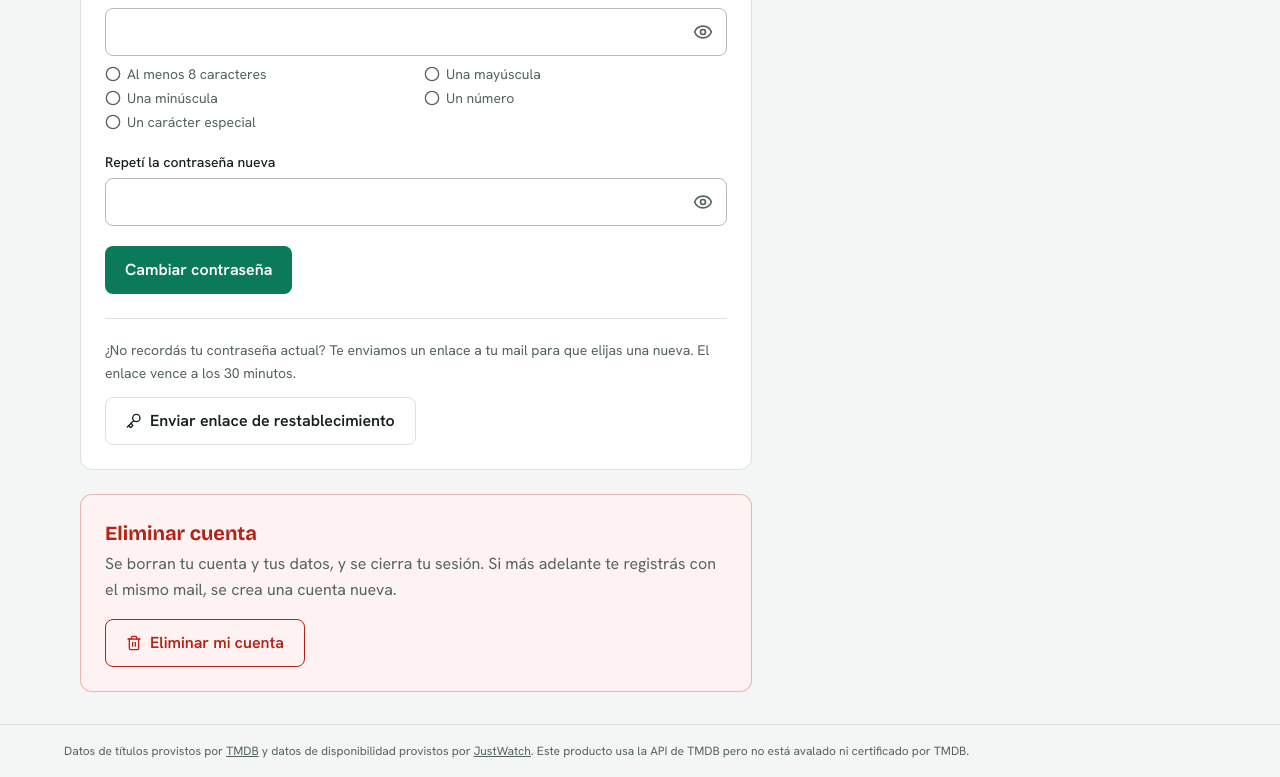
Test case: Cuenta: cambiar contraseña › manda el enlace de restablecimiento al mail de la sesión
The width and height of the screenshot is (1280, 777).
(page scrolled)
Click the button "Enviar enlace de restablecimiento": x=260, y=420 [105,396,416,444]
(page scrolled)
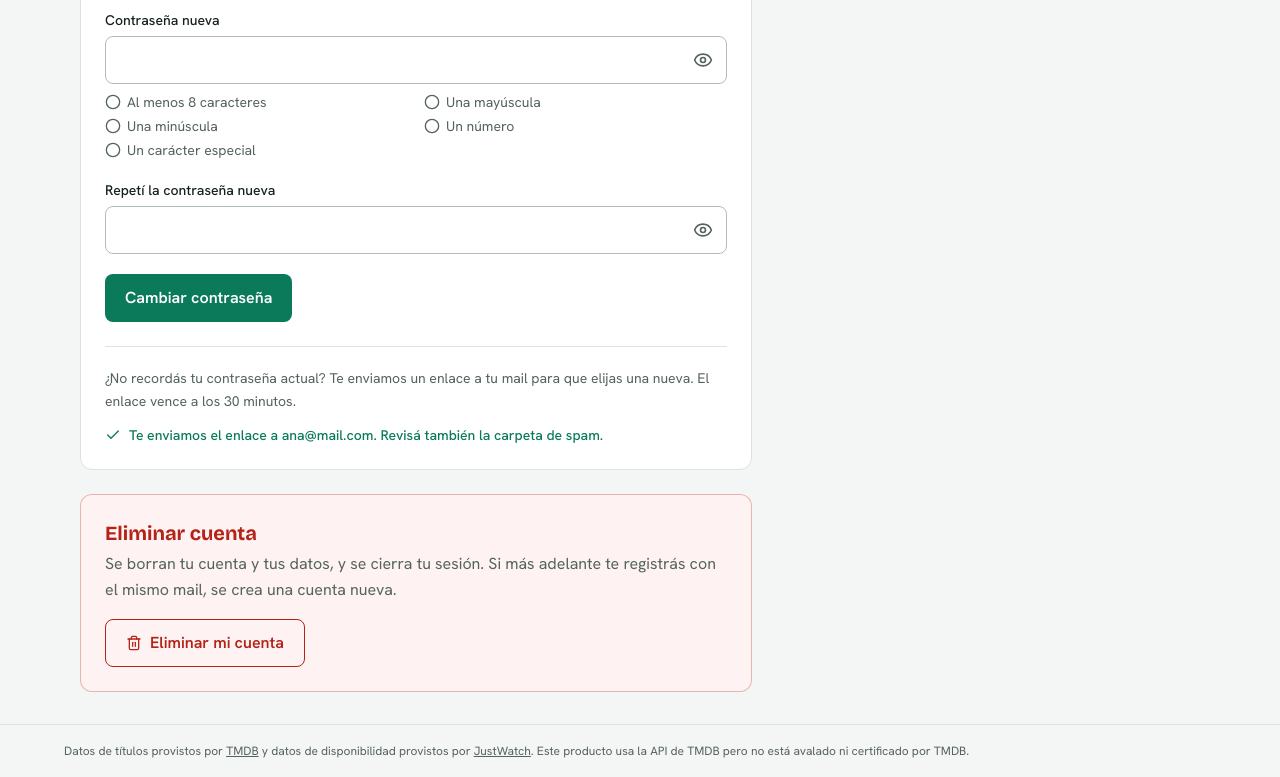
expect the message shows "ana@mail.com": met, box [282,426,374,444]
